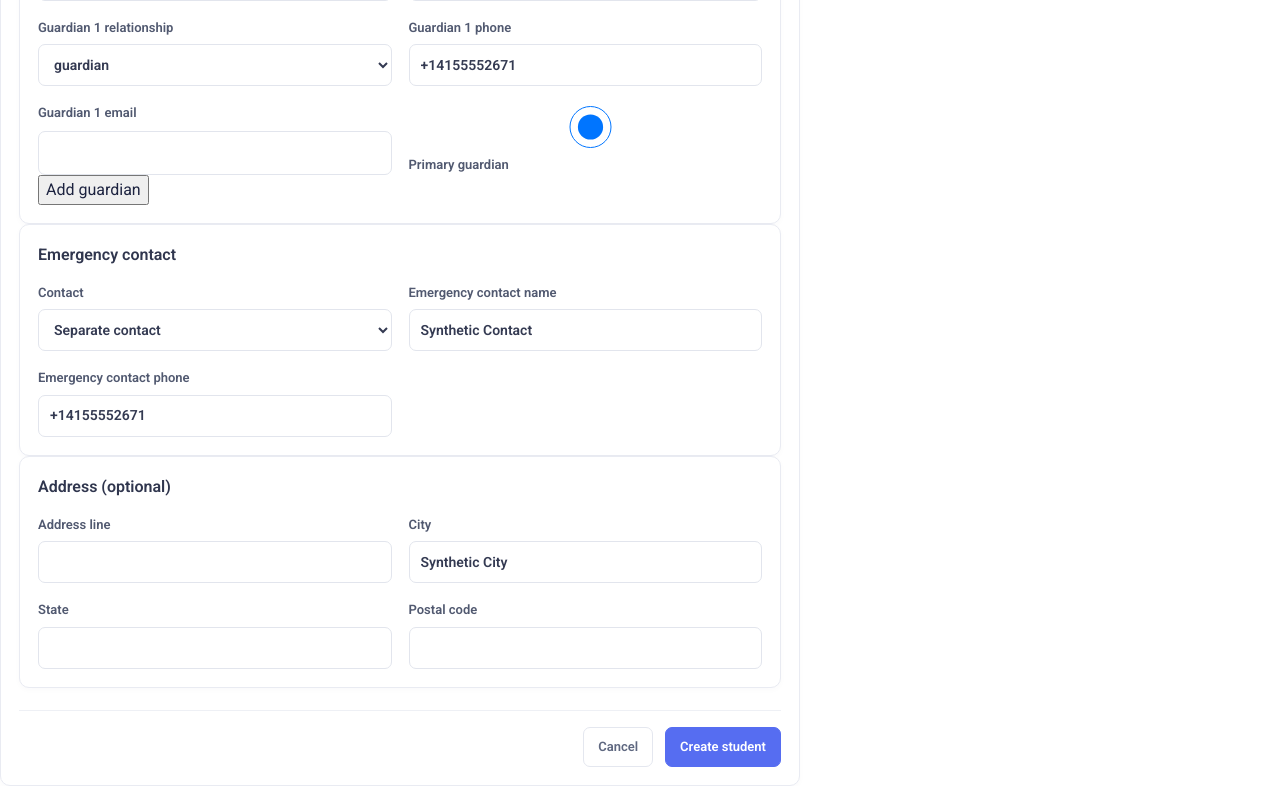
API-mode student creation form › keeps a separate emergency contact and entered data after an API error
The width and height of the screenshot is (1280, 786).
Earlier steps of the test are not shown.
(page scrolled)
Click the button "Create student" at [723, 746], box 665,726 -> 781,766
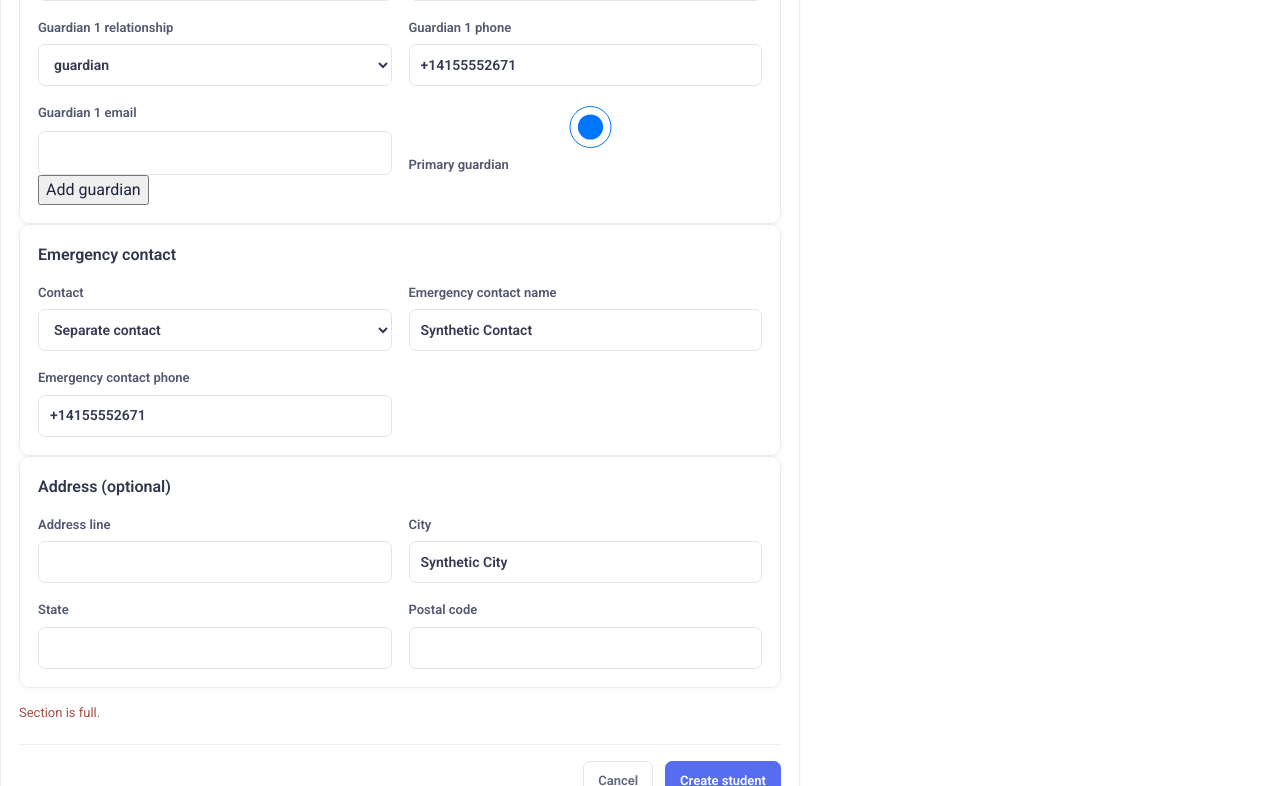
Expected: the field labelled "Emergency contact name" holds "Synthetic Contact", 408,309 -> 762,351
Now the message reads "Section is full.", box 19,704 -> 100,720
